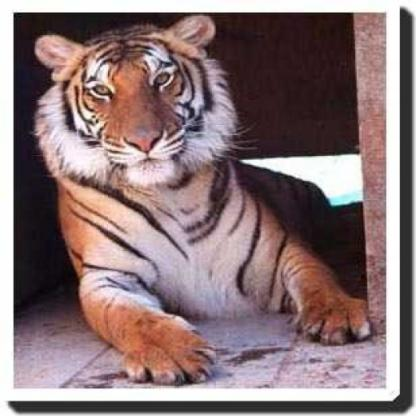Tiger: (22, 15, 394, 382)
